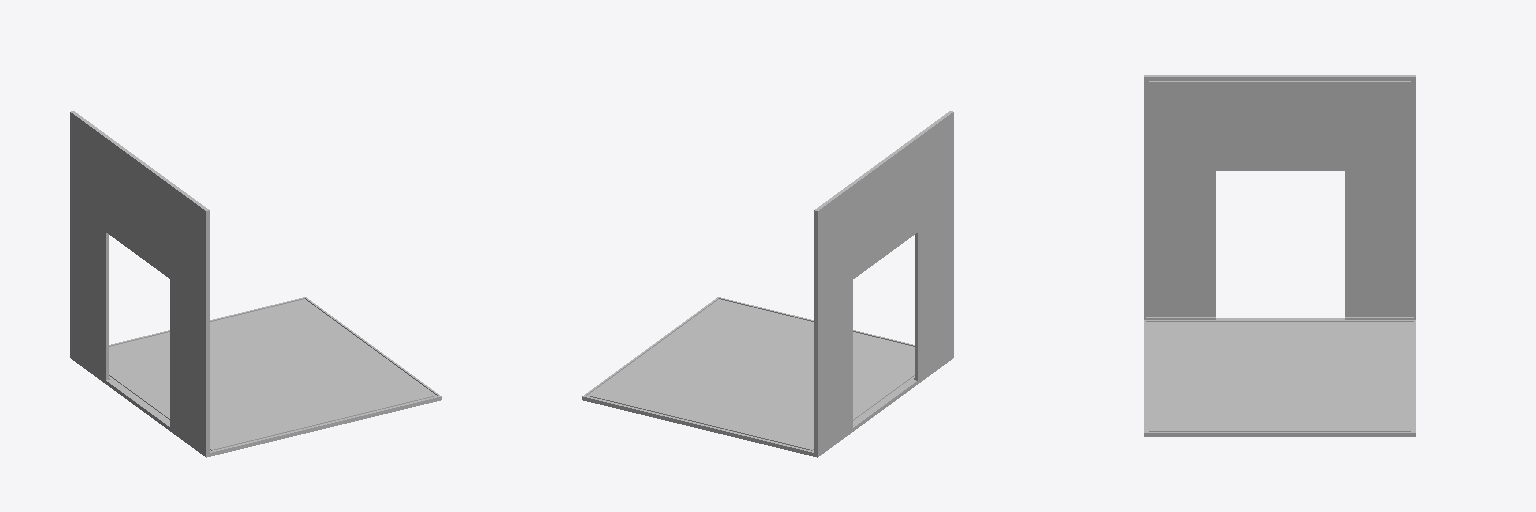
The model's file is Door.obj.
3 renders of one model, left to right at view 1: azimuth 30°, elevation 25°; view 2: azimuth 150°, elevation 25°; view 3: azimuth 270°, elevation 25°, orthographic.
Visible parts, largest first — view 1: object 1; view 2: object 1; view 3: object 1.
Boxes of the visible parts, box(x1,y1,x2,y2) form: object 1: box(70, 111, 441, 457); object 1: box(582, 111, 953, 457); object 1: box(1144, 75, 1415, 436).
Size of the model in its own units: 25.6 by 25.6 by 25.6.